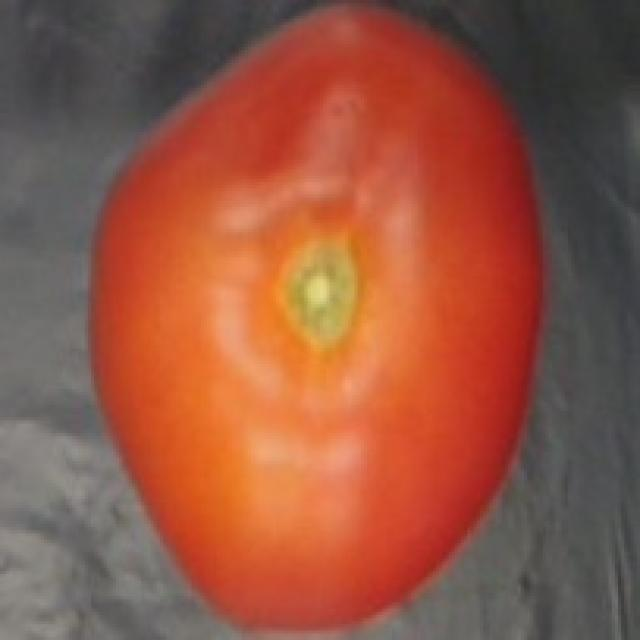ripe tomato: (79, 2, 563, 640)
